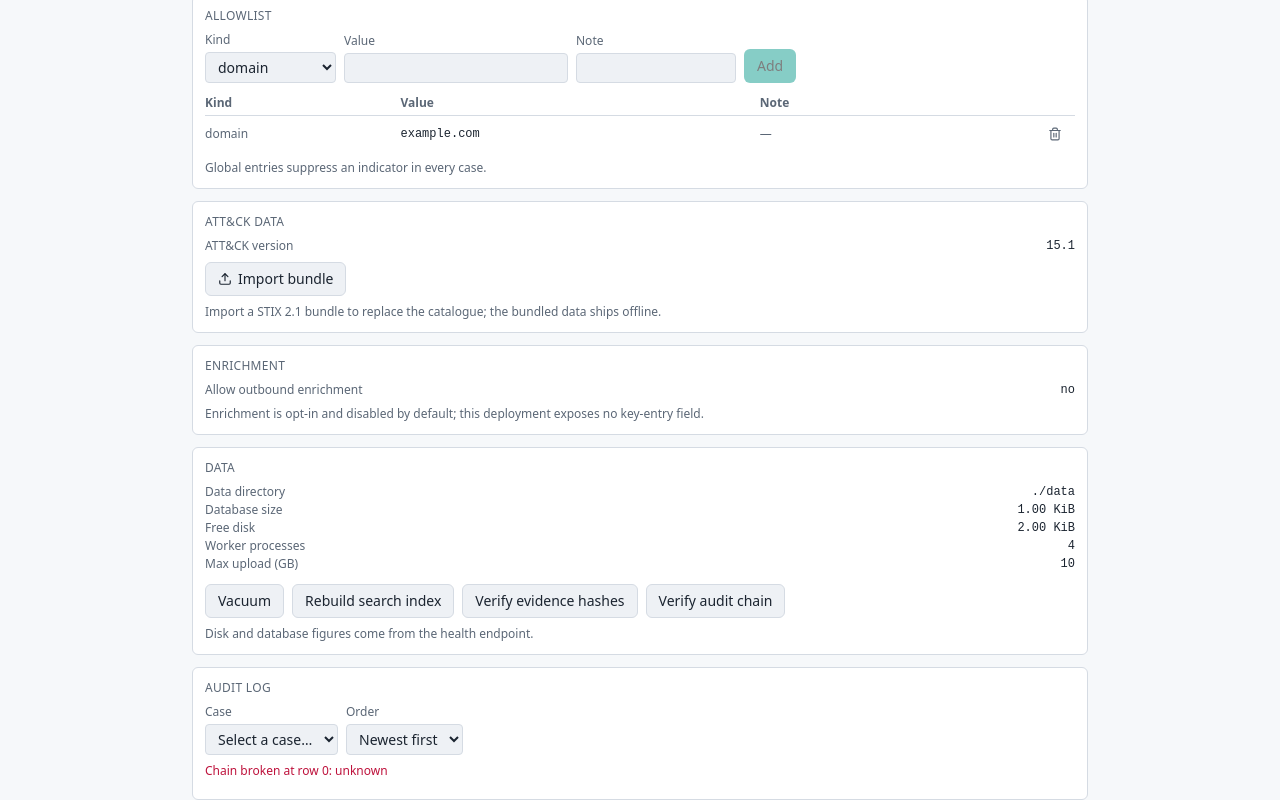
Test: SettingsPage › verifies the audit chain and reports the row count
(page scrolled)
Click the button "Verify audit chain" at coordinates (715, 601), box [646, 584, 785, 618]
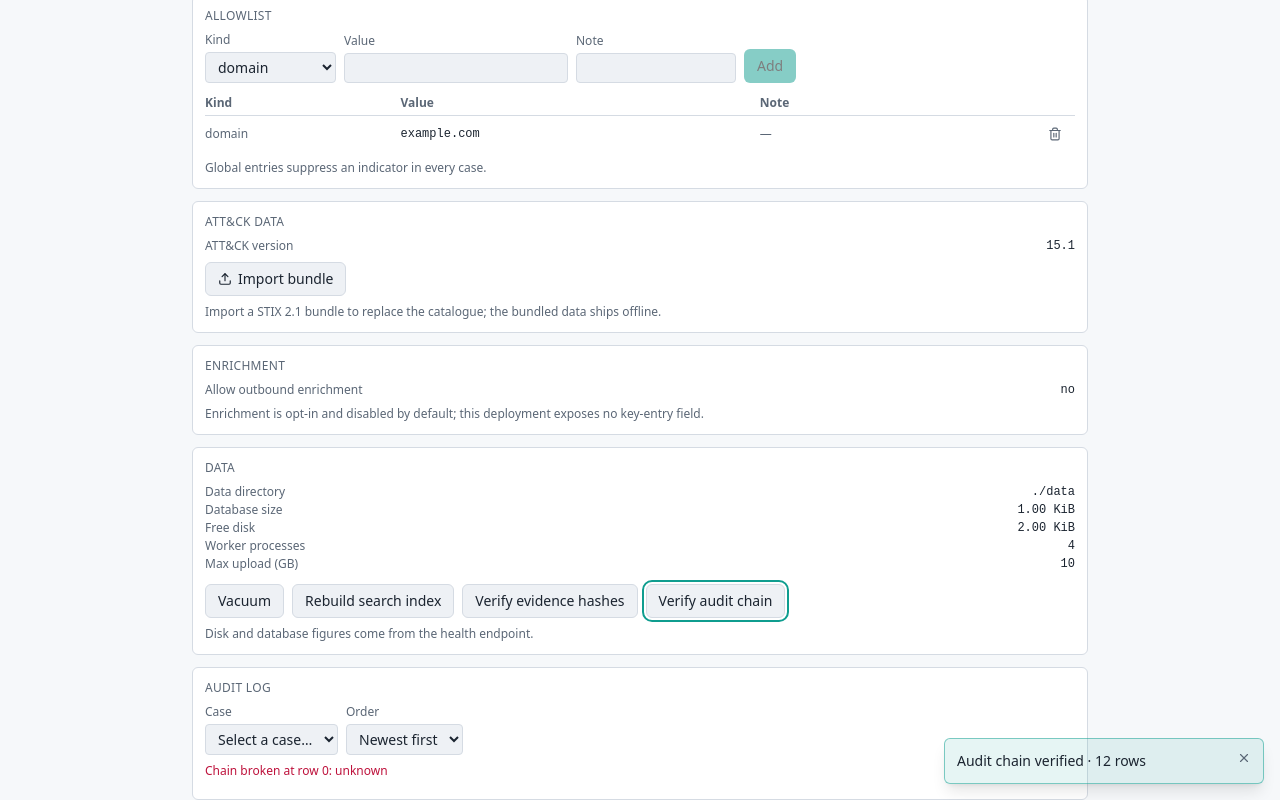
expect the text "Audit chain verified · 12 rows" is shown: met, box [957, 751, 1146, 770]
